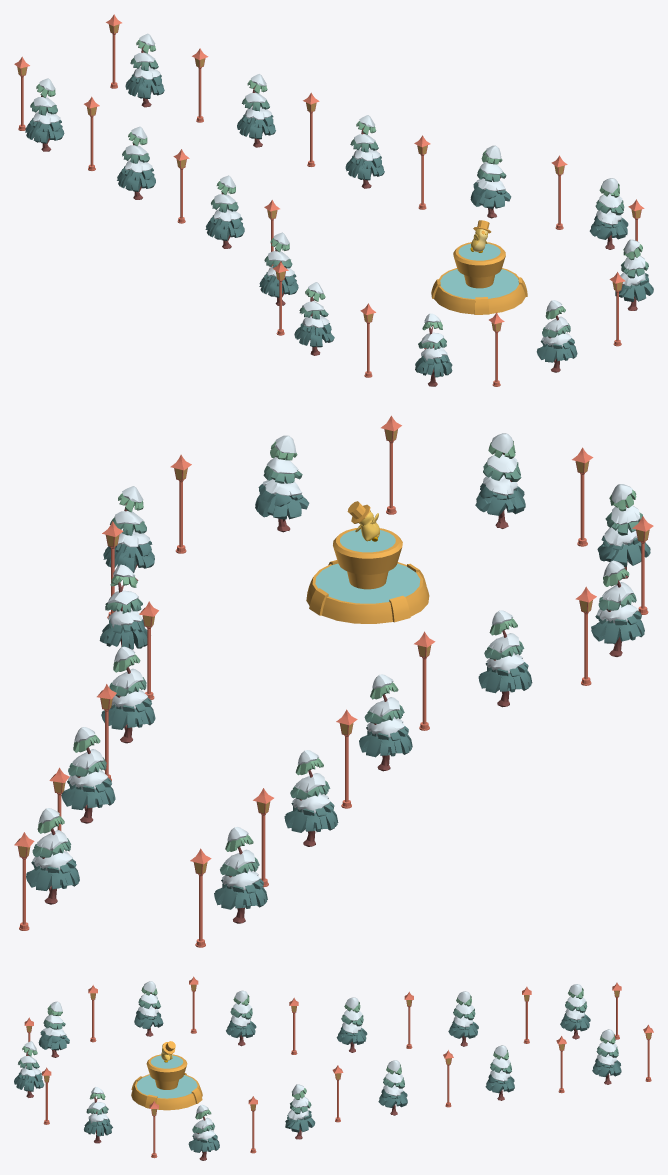
File: Extras_Walkway_01.fbx
The picture shows the model from 3 angles, top to bottom: view 1: azimuth 30°, elevation 25°; view 2: azimuth 150°, elevation 25°; view 3: azimuth 270°, elevation 25°; orthographic projection. The views are drawn at different scales.
Visible parts, largest first — view 1: pasted__pasted__pasted__pasted__Object_Fountain2, Tree_634 (×2), Tree_633 (×2), Tree_632 (×2), Tree_636, Tree_637, Tree_639, Tree_641, Tree_640, Tree_638, Tree_635; view 2: pasted__pasted__pasted__pasted__Object_Fountain2, Tree_632 (×2), Tree_633 (×2), Tree_634 (×2), Tree_638, Tree_639, Tree_641, Tree_635, Tree_640, Tree_636, Tree_637; view 3: pasted__pasted__pasted__pasted__Object_Fountain2, Tree_632 (×2), Tree_634 (×2), Tree_633 (×2), Tree_640, Tree_635, Tree_637, Tree_636, Tree_641, Tree_639, Tree_638.
Boxes of the visible parts, x1,y1,x2,y2 form: pasted__pasted__pasted__pasted__Object_Fountain2: (431, 242, 527, 314); Tree_634 (×2): (205, 115, 384, 248); Tree_633 (×2): (117, 74, 275, 199); Tree_632 (×2): (25, 33, 164, 151); Tree_636: (470, 145, 511, 218); Tree_637: (589, 178, 628, 249); Tree_639: (536, 300, 577, 372); Tree_641: (294, 282, 334, 355); Tree_640: (415, 313, 452, 386); Tree_638: (615, 239, 653, 310); Tree_635: (259, 232, 298, 305); pasted__pasted__pasted__pasted__Object_Fountain2: (306, 528, 429, 623); Tree_632 (×2): (26, 808, 267, 923); Tree_633 (×2): (61, 727, 338, 846); Tree_634 (×2): (101, 646, 412, 771); Tree_638: (255, 435, 309, 532); Tree_639: (475, 433, 525, 528); Tree_641: (591, 560, 644, 656); Tree_635: (478, 610, 532, 707); Tree_640: (597, 484, 650, 578); Tree_636: (99, 564, 147, 649); Tree_637: (103, 486, 154, 583); pasted__pasted__pasted__pasted__Object_Fountain2: (131, 1054, 202, 1110); Tree_632 (×2): (560, 984, 621, 1084); Tree_634 (×2): (336, 997, 407, 1115); Tree_633 (×2): (448, 991, 514, 1100); Tree_640: (38, 1001, 69, 1057); Tree_635: (226, 990, 256, 1046); Tree_637: (188, 1104, 219, 1160); Tree_636: (285, 1084, 315, 1139); Tree_641: (134, 981, 163, 1036); Tree_639: (14, 1041, 44, 1097); Tree_638: (84, 1086, 112, 1143).
Bounding box in the file's own units: 1829 × 383 × 3584.
